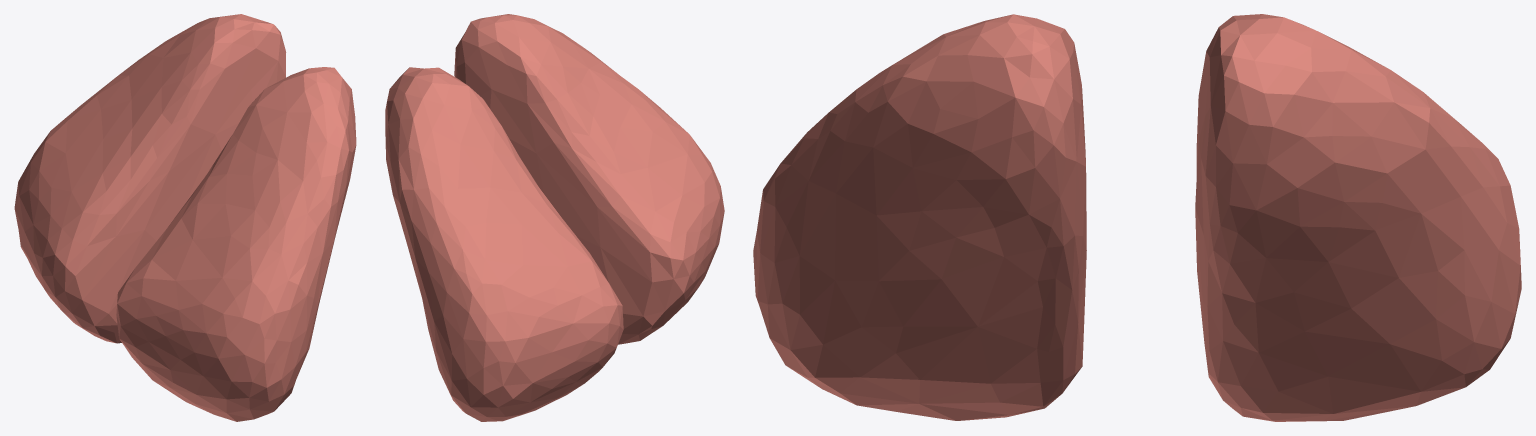
The picture shows the model from 3 angles, left to right: view 1: azimuth 30°, elevation 25°; view 2: azimuth 150°, elevation 25°; view 3: azimuth 270°, elevation 25°; orthographic projection. The views are drawn at different scales.
Visible parts, largest first — view 1: 830.obj; view 2: 830.obj; view 3: 830.obj.
Boxes of the visible parts, left/top/right/bottom form: 830.obj: left=14, top=14, right=356, bottom=421; 830.obj: left=385, top=14, right=724, bottom=421; 830.obj: left=753, top=14, right=1521, bottom=421.
Bounding box in the file's own units: 791 × 977 × 1393.
